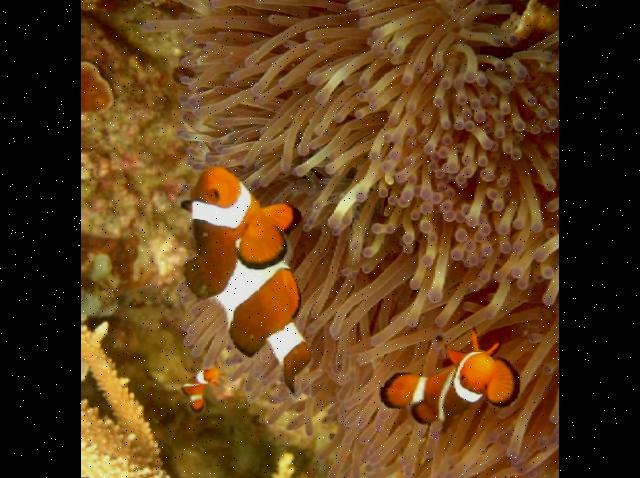Mulut: (184, 150, 238, 193), (464, 345, 506, 380)
Sirip Anal: (268, 261, 310, 325)
Sirip Dada: (226, 210, 328, 276), (488, 354, 528, 414)
Sirip Ekor: (262, 324, 338, 424), (370, 360, 430, 408)
Sirip Perut: (460, 321, 510, 360), (261, 194, 305, 234)
Sirip Punggung: (174, 244, 268, 361), (388, 396, 462, 446)
